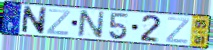2: (139, 14, 163, 44)
5: (108, 11, 130, 41)
N: (77, 9, 107, 39), (20, 5, 48, 35)
Z: (46, 8, 72, 37), (165, 16, 191, 45)
